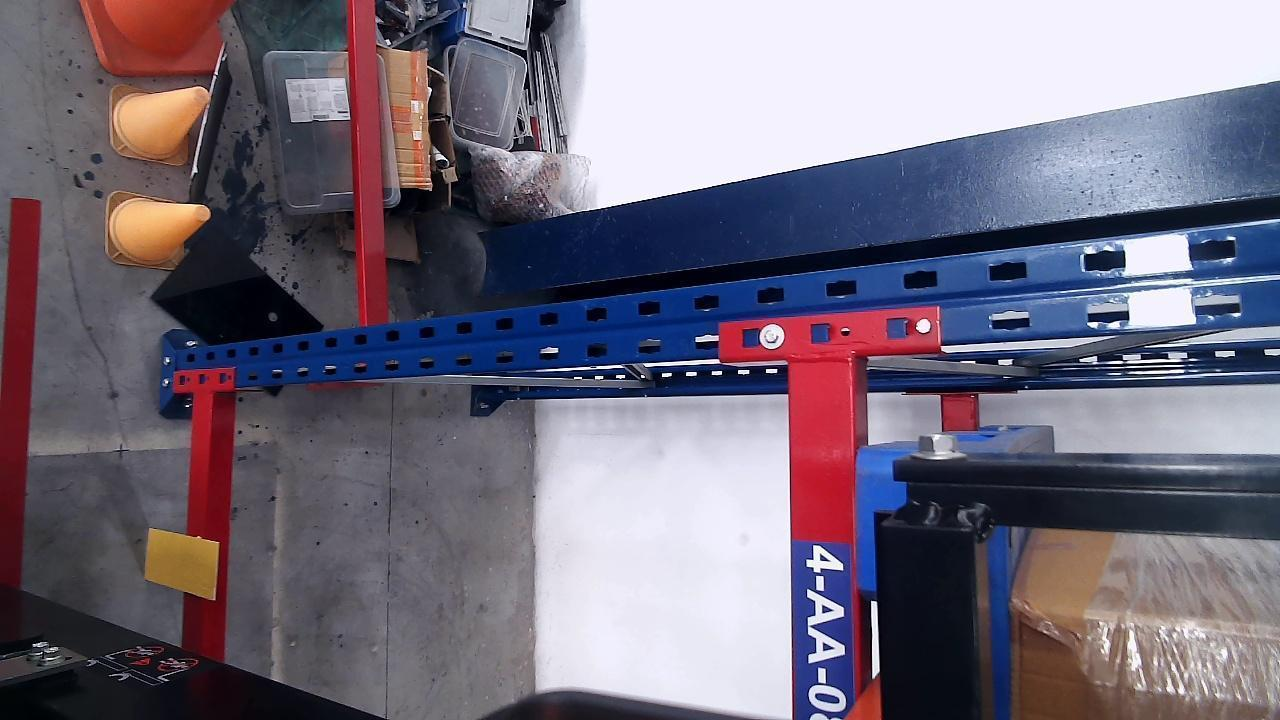red_line: (2, 196, 41, 592)
